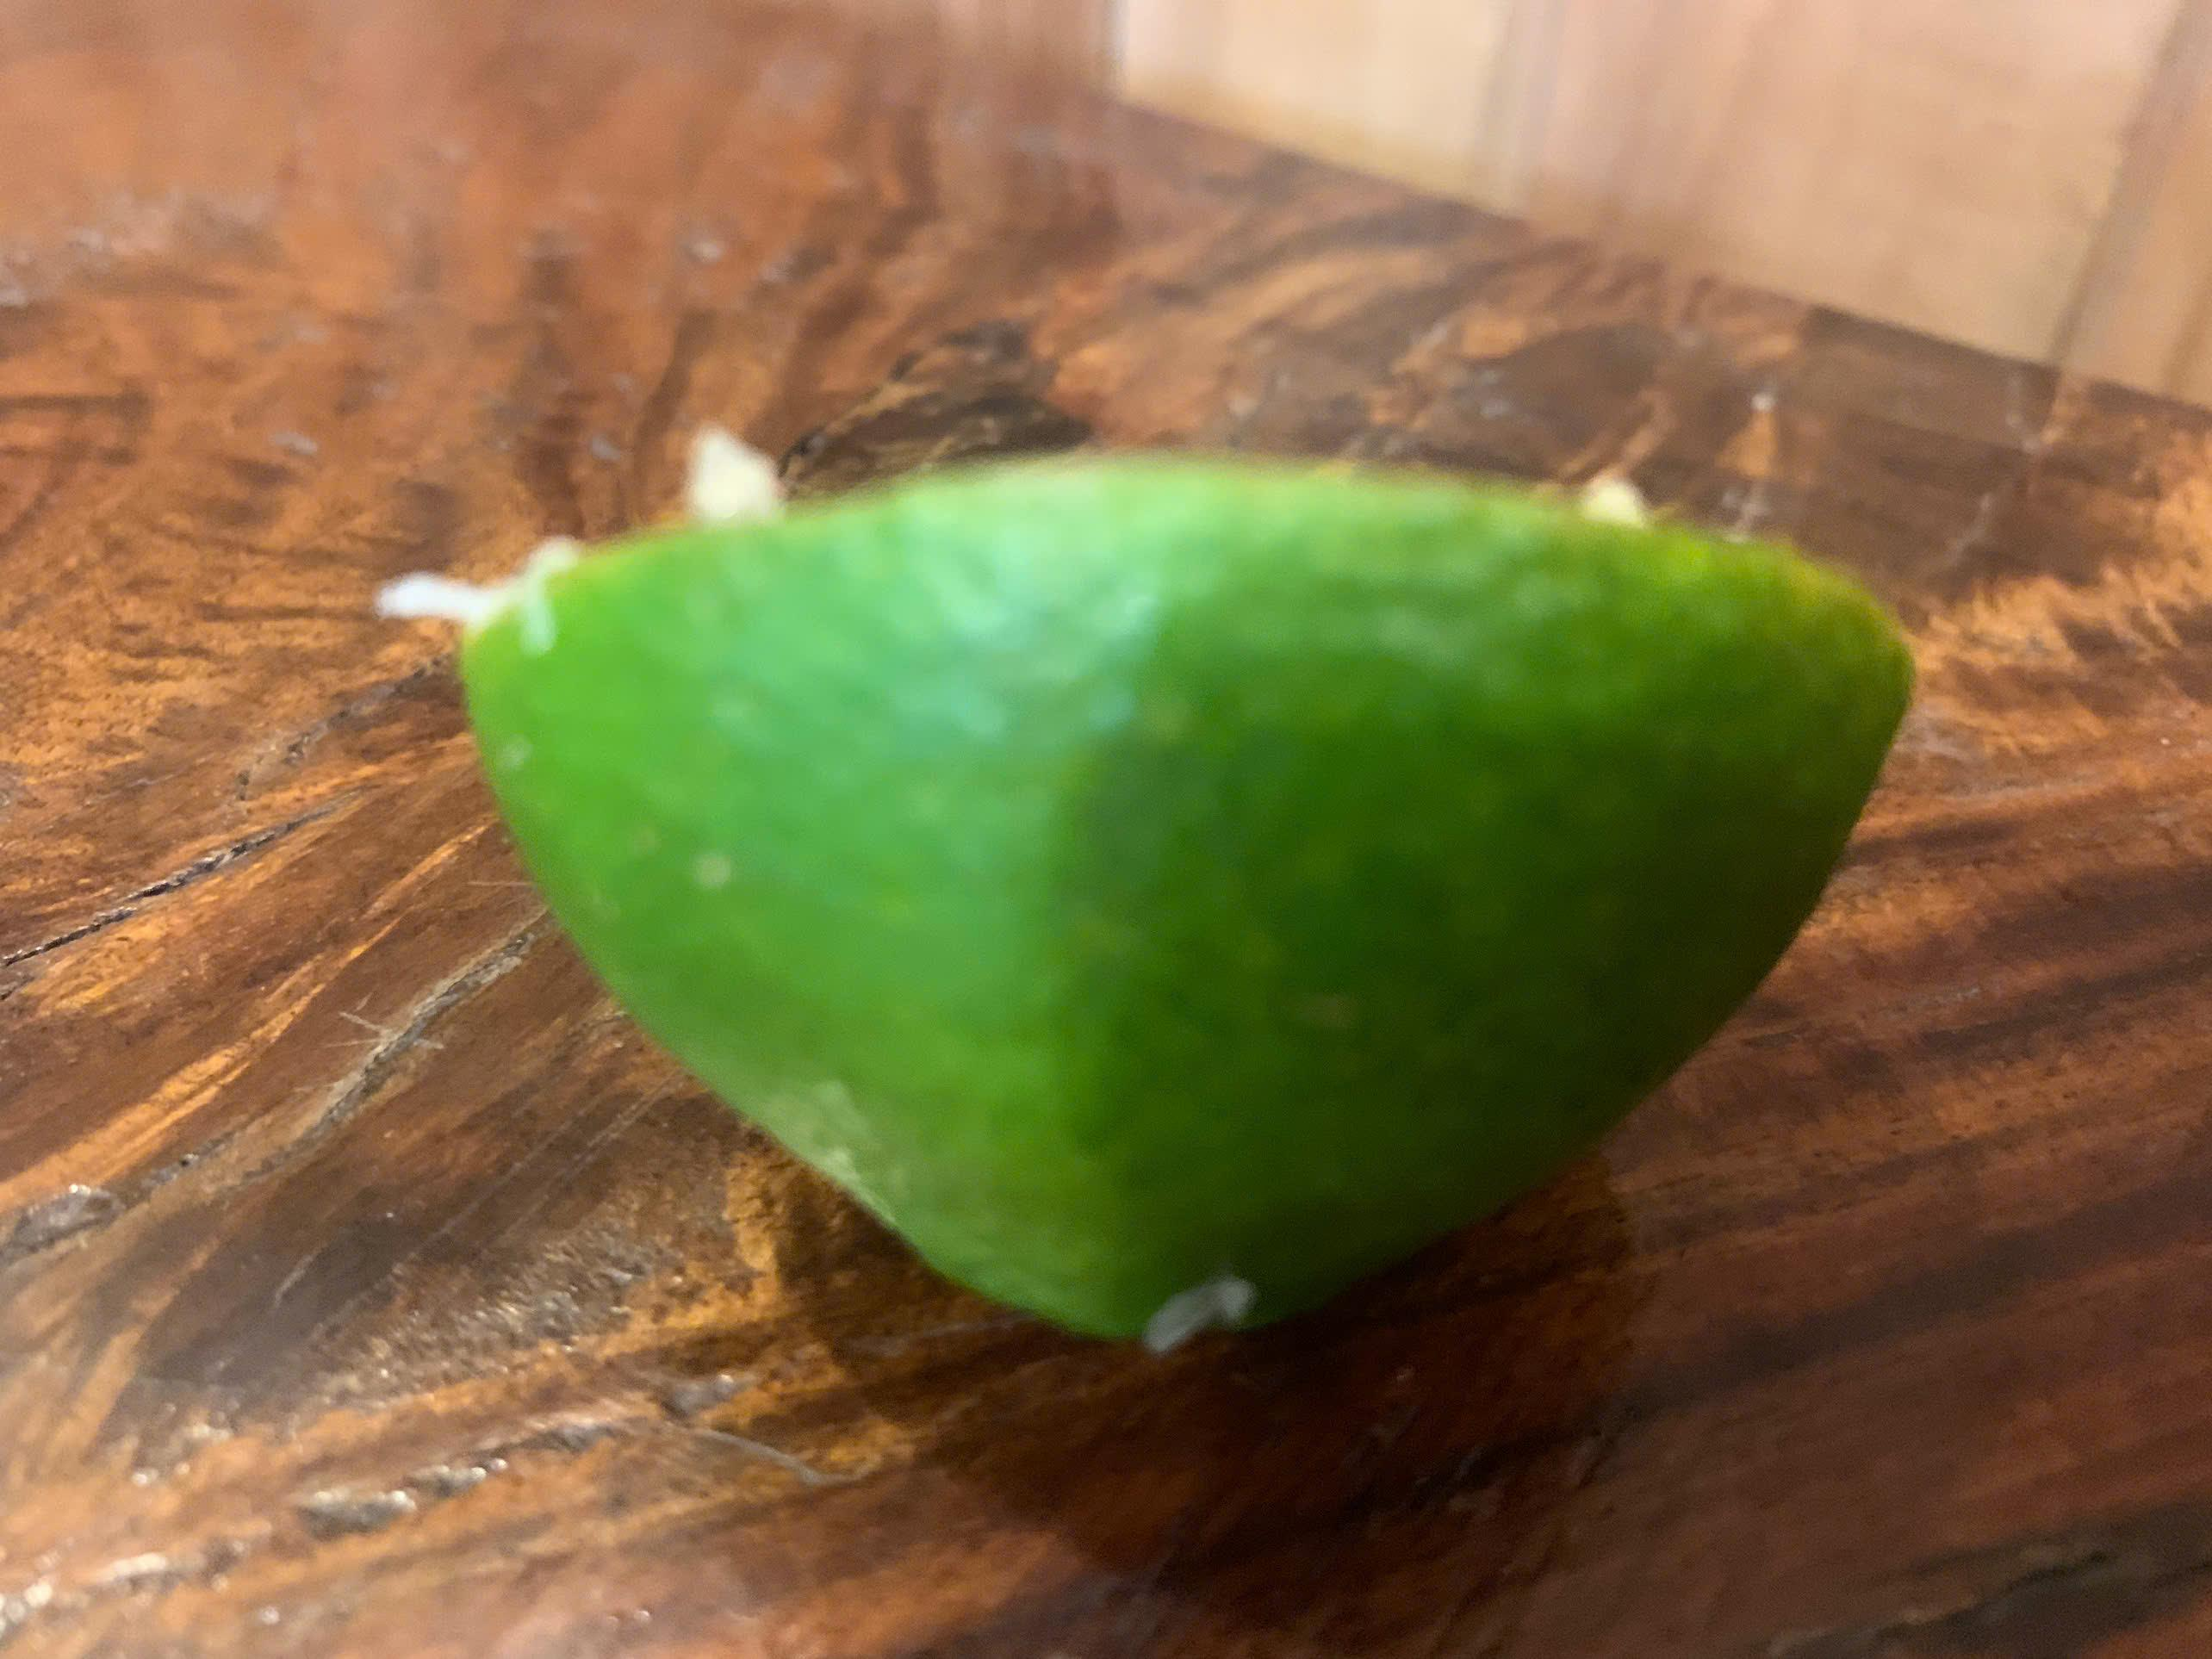Huu co: (454, 445, 1914, 1354)
